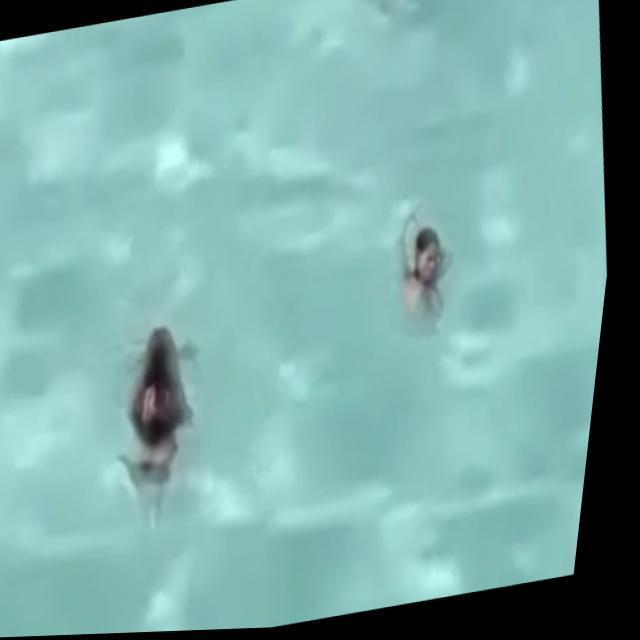swimming: (107, 310, 207, 505), (371, 201, 468, 359)
